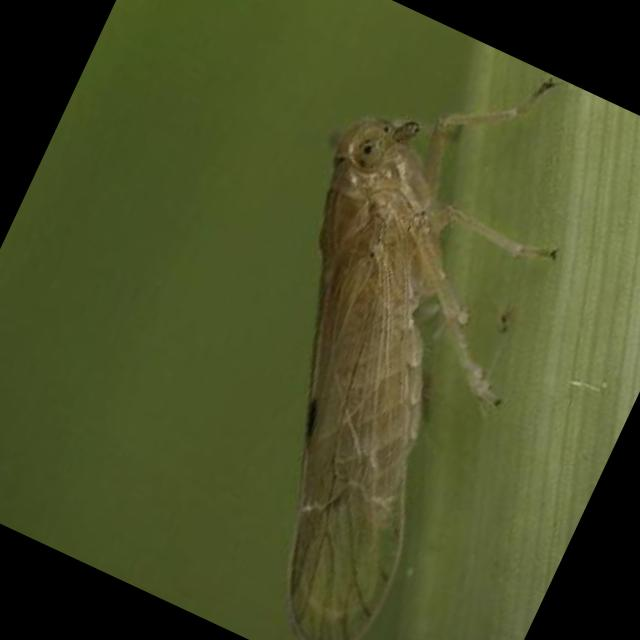brown-planthopper: (123, 60, 589, 640)
